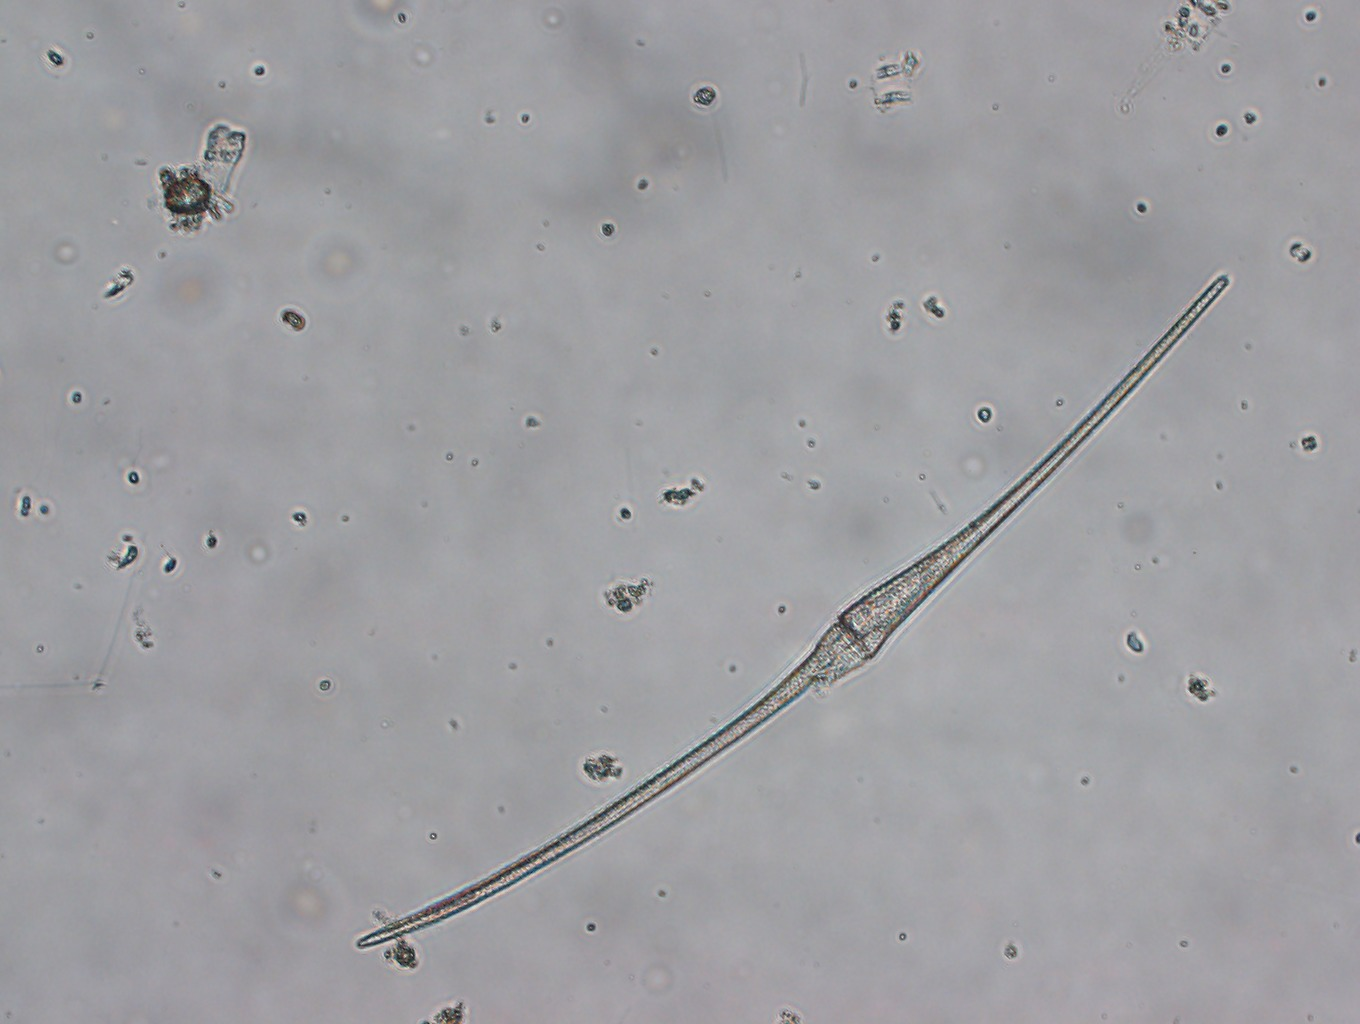ceratium fusus: (350, 265, 1239, 959)
